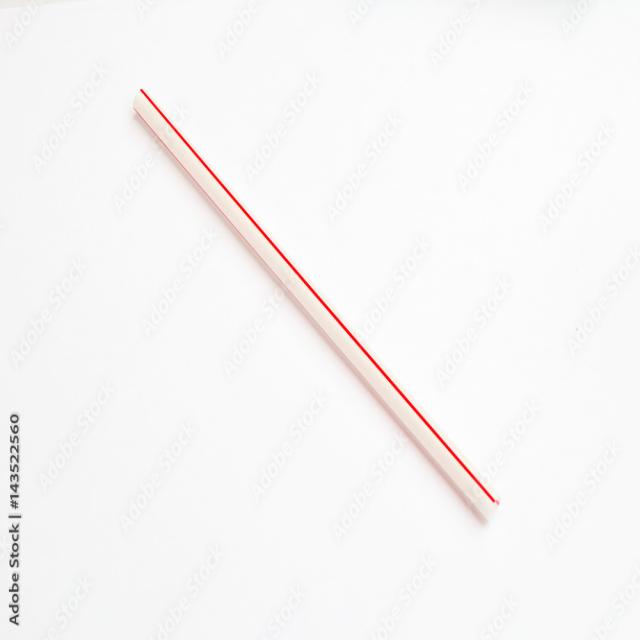plastic: (126, 24, 493, 544)
